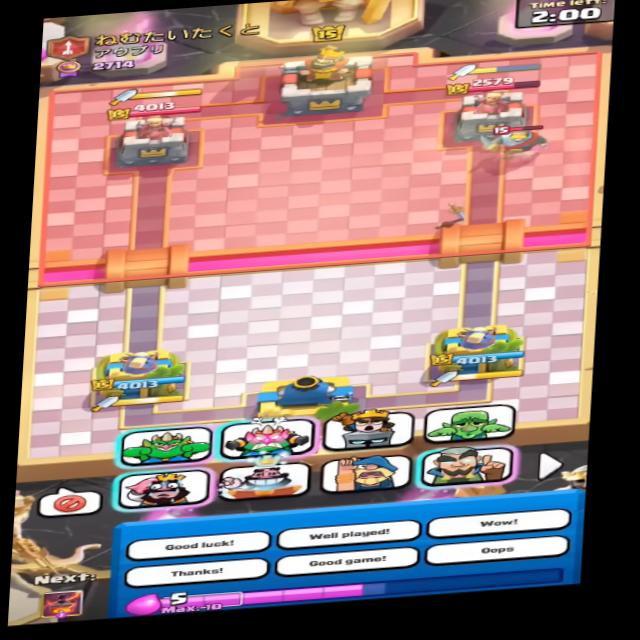knight: (479, 118, 554, 164)
